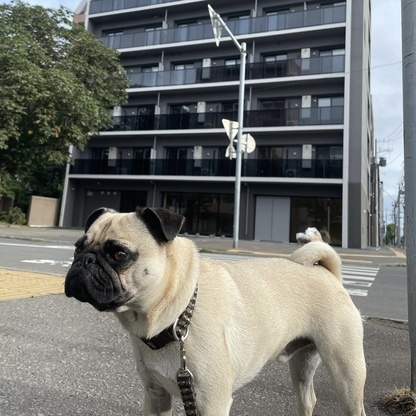Pug: (61, 201, 376, 416)
